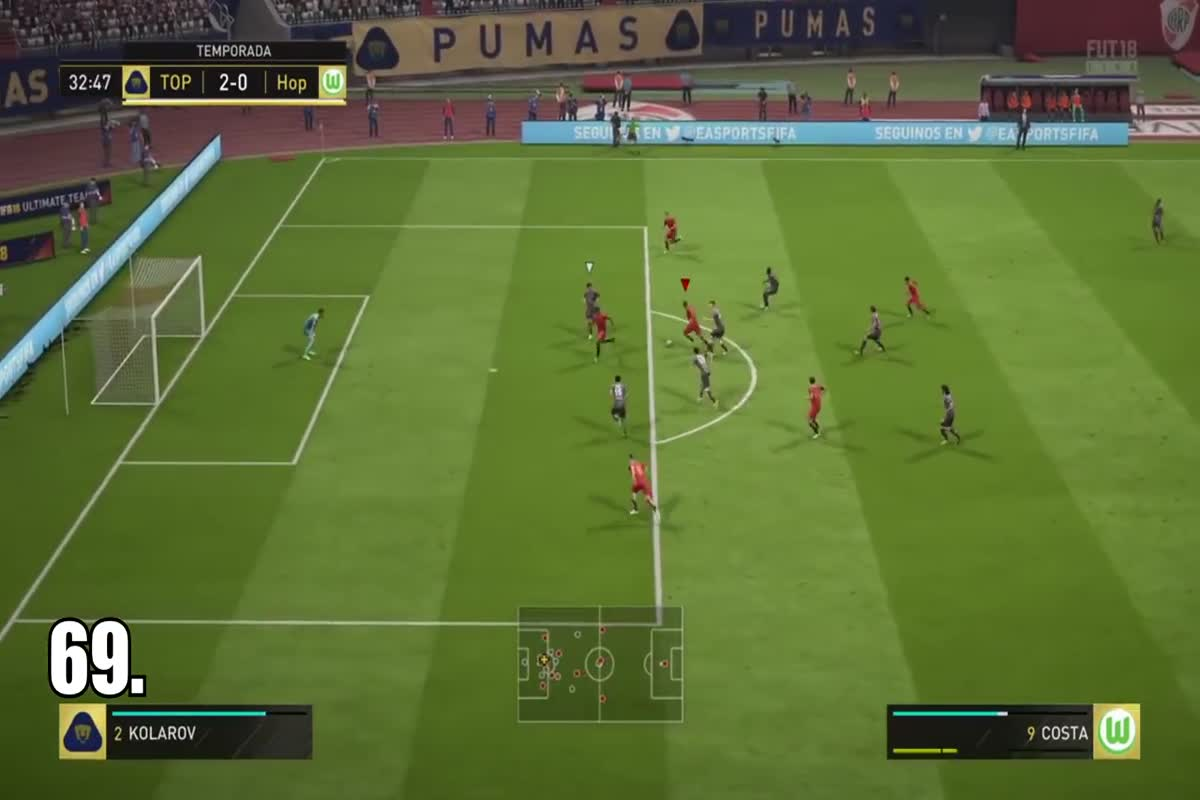ball: (657, 334, 677, 352)
